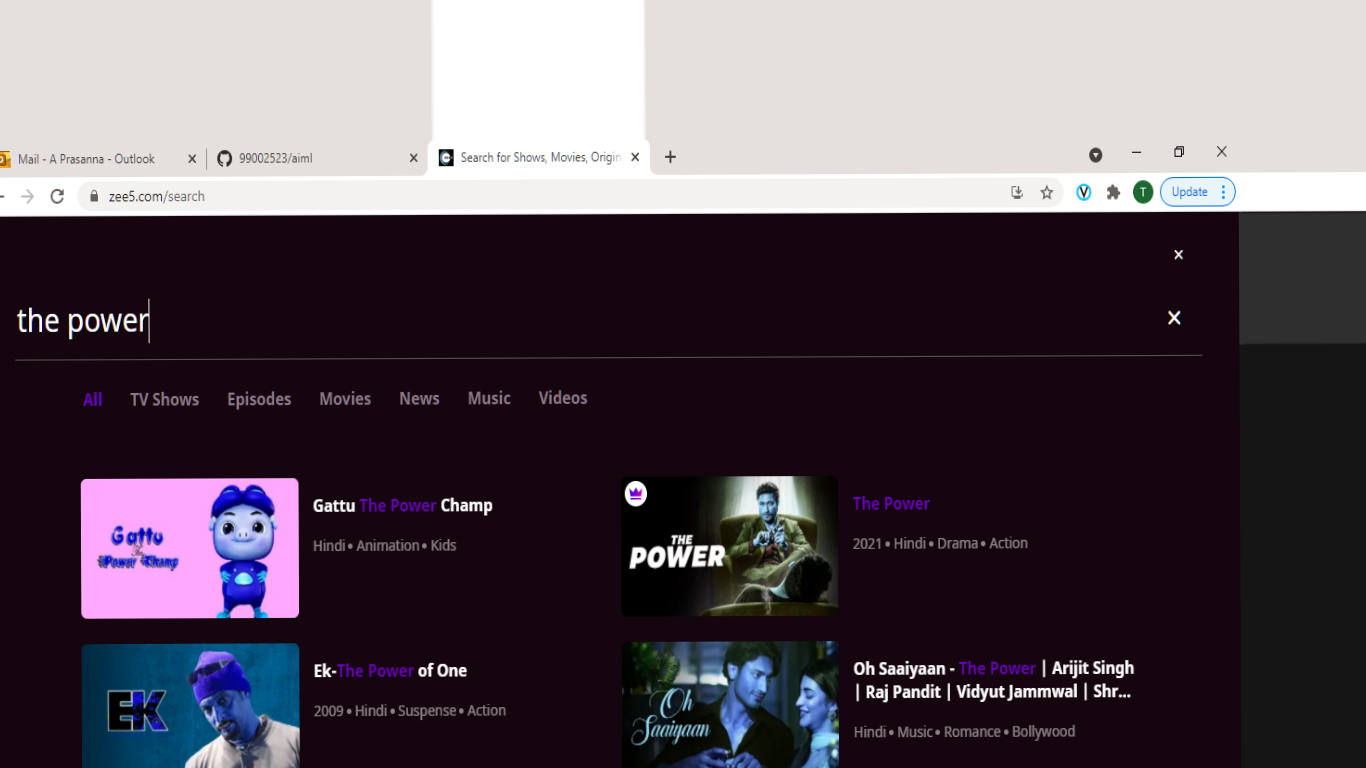searchtextbox: (16, 279, 1211, 367)
